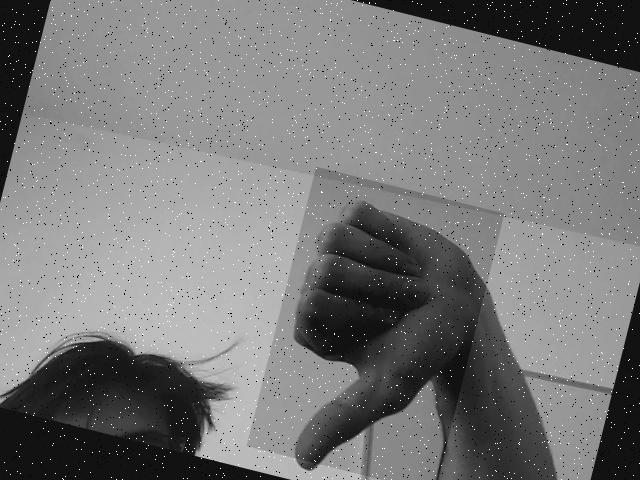bad: (246, 167, 504, 480)
